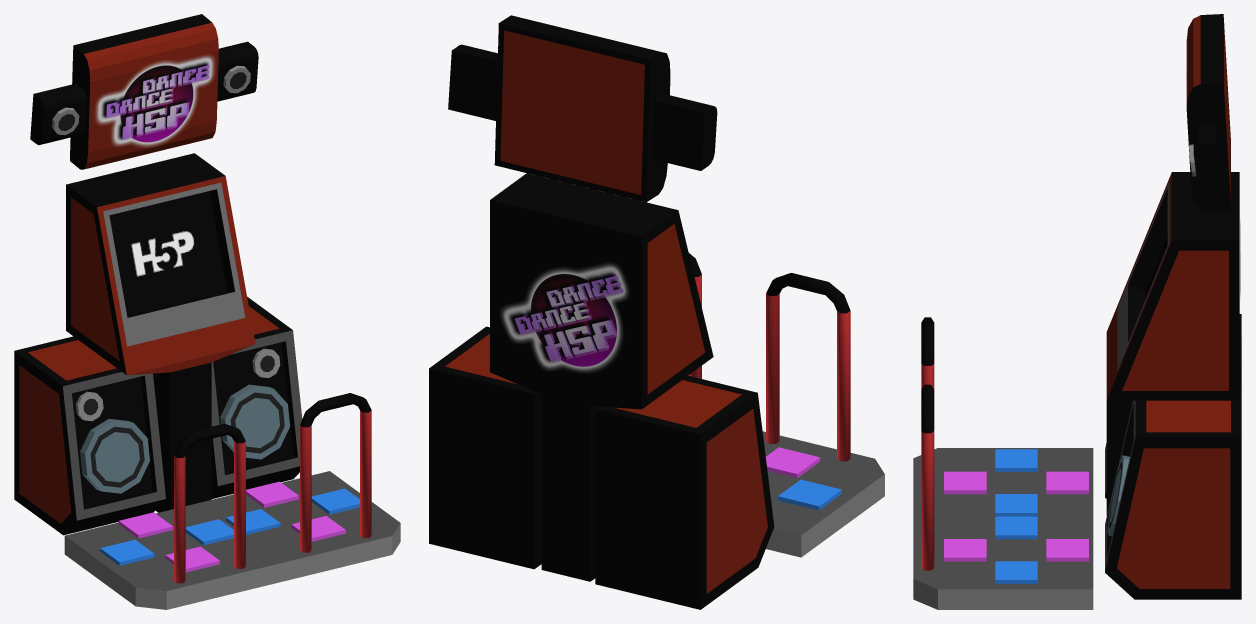
3 views of the same model, side by side, from view 1: azimuth 30°, elevation 25°; view 2: azimuth 150°, elevation 25°; view 3: azimuth 270°, elevation 25° (orthographic). The views are drawn at different scales.
Parts seen in each view (by area): view 1: Arcade_Dance Dance H5P; view 2: Arcade_Dance Dance H5P; view 3: Arcade_Dance Dance H5P.
Part boxes in pixels (left/top/right/bottom): Arcade_Dance Dance H5P: left=14, top=14, right=400, bottom=609; Arcade_Dance Dance H5P: left=429, top=15, right=884, bottom=609; Arcade_Dance Dance H5P: left=913, top=14, right=1241, bottom=609.
Bounding box in the file's own units: 1.54 × 2.5 × 1.52.
3 materials, 3 textured.
